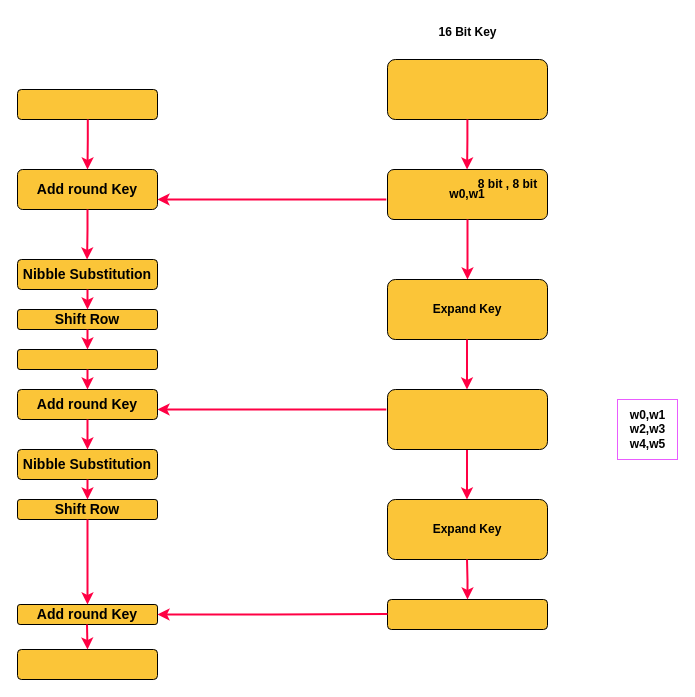
Image size: 695x697. Some labels were removed from this diagram. The centre of each missing label's shape, as x and y in pixels:
16-bit Cipher Text: (x=87, y=664)
16-bit key: (x=467, y=89)
16-bit plain text: (x=87, y=104)
Mix Columns: (x=87, y=359)
w2,w3: (x=467, y=419)
w4,w5: (x=467, y=614)
